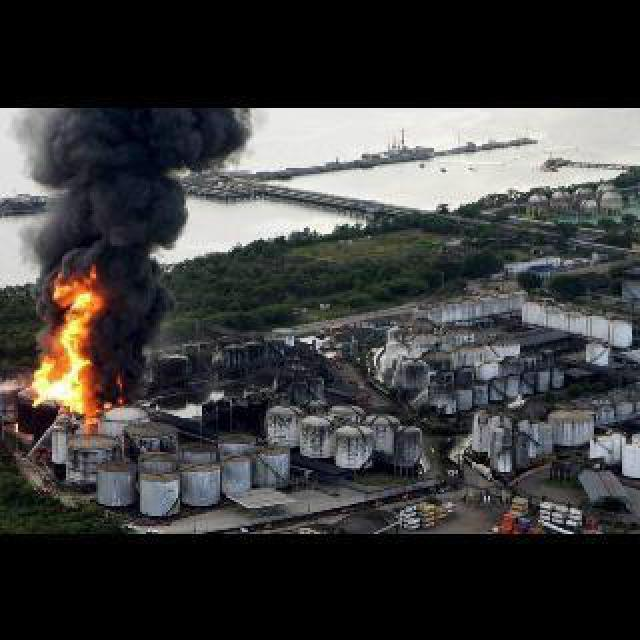Fire: (24, 258, 120, 414)
